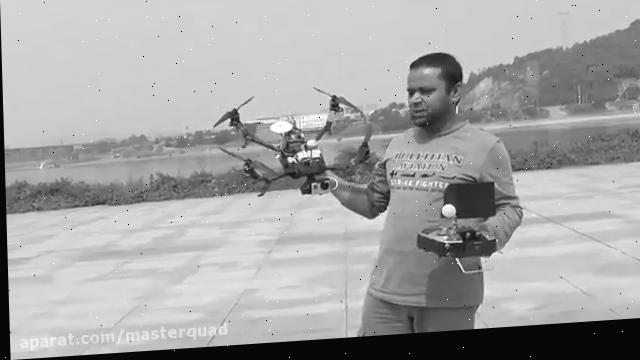drone: (207, 85, 376, 209)
